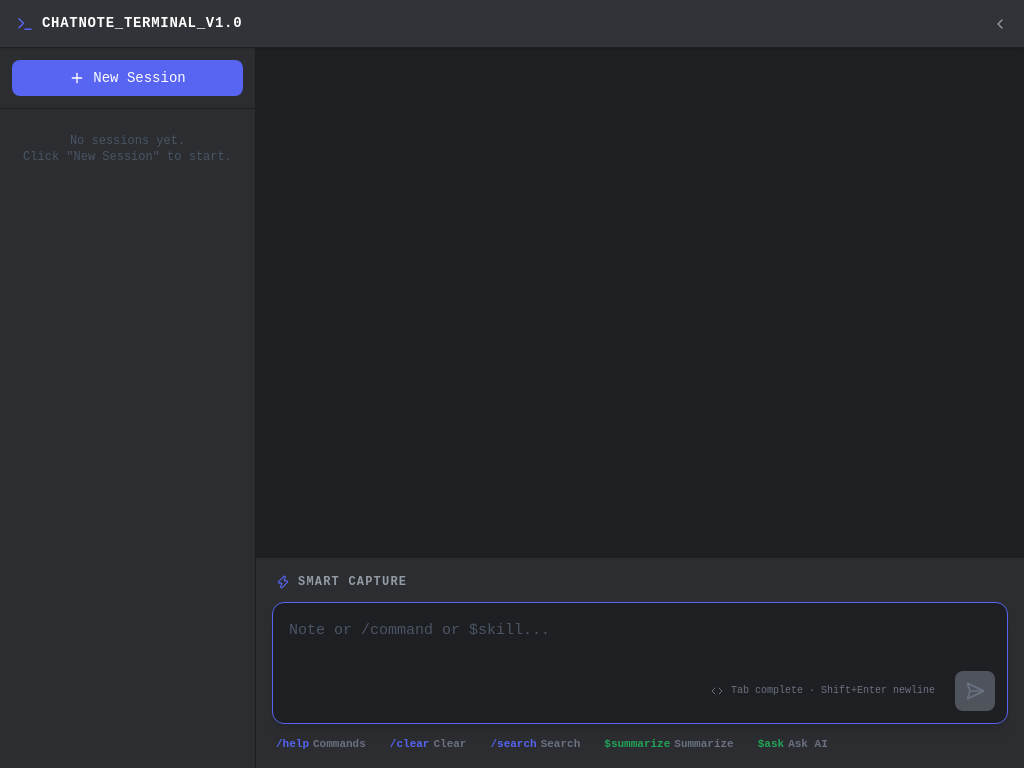
Test: context_loaded state update › updates loadedContext when executeFn returns context_loaded response
In the text box with placeholder "Note or /command or $skill...": (640, 658) x1=273 y1=602 x2=1007 y2=714, type "@TestServer #general"
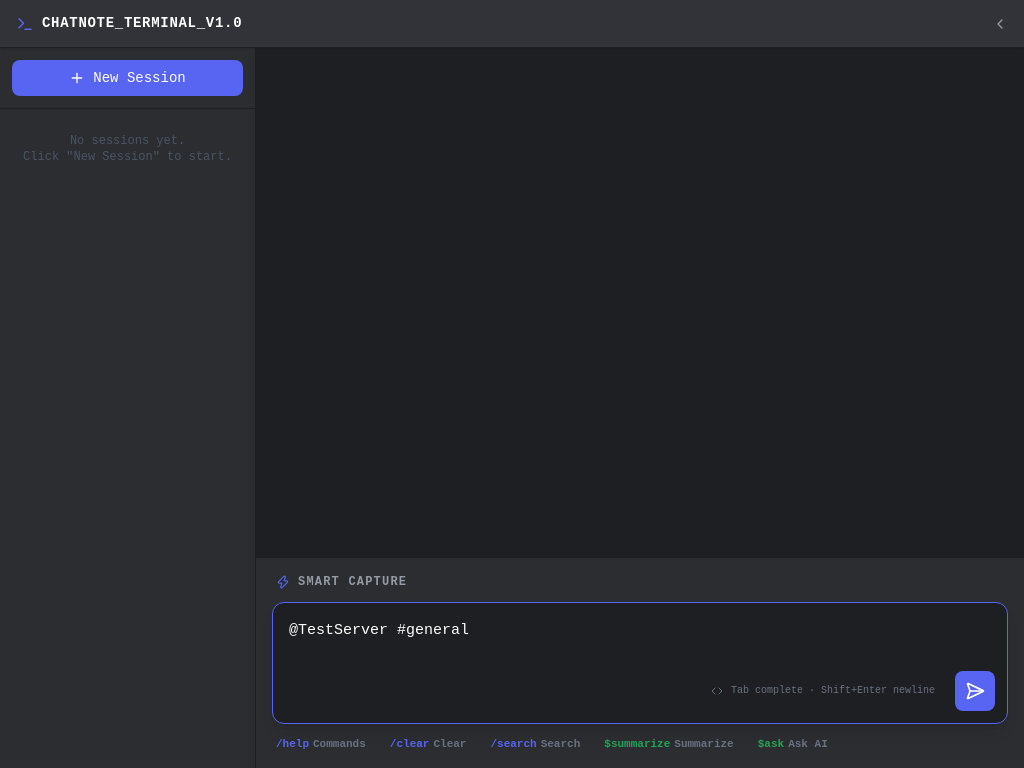
Click the 3rd button: (975, 690) x1=955 y1=670 x2=995 y2=710
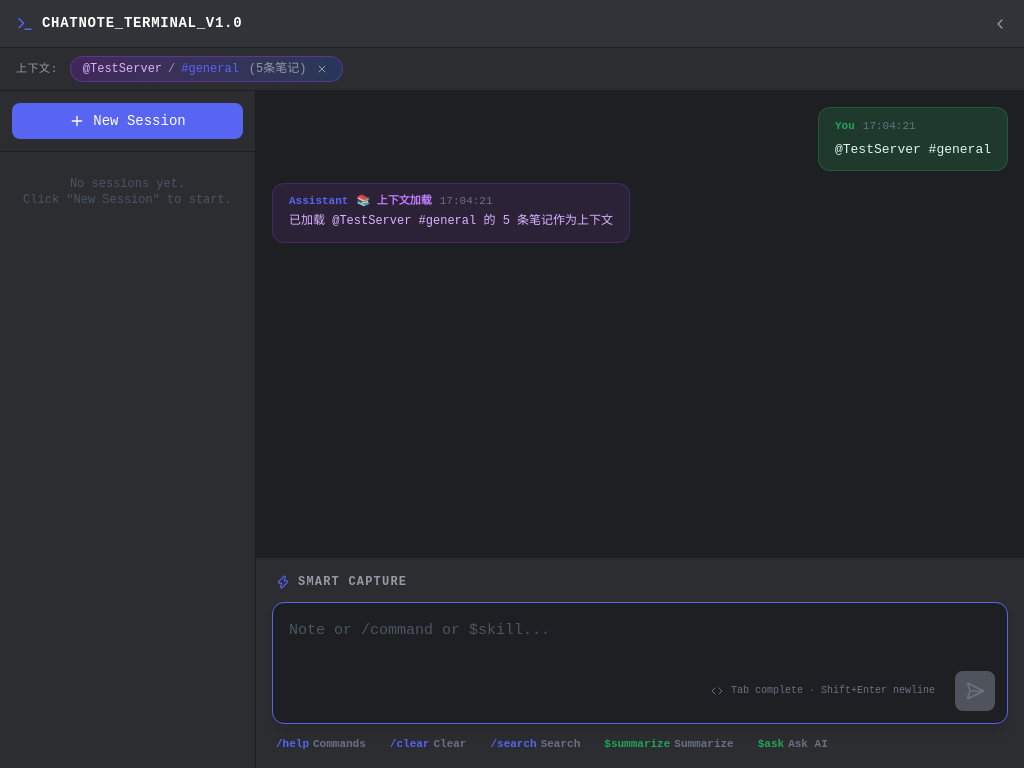
Expected: the text "上下文:" is shown, x1=16 y1=61 x2=58 y2=77
Expected: the text "@TestServer" is shown, x1=83 y1=61 x2=162 y2=77
Expected: the text "#general" is shown, x1=181 y1=61 x2=239 y2=77
